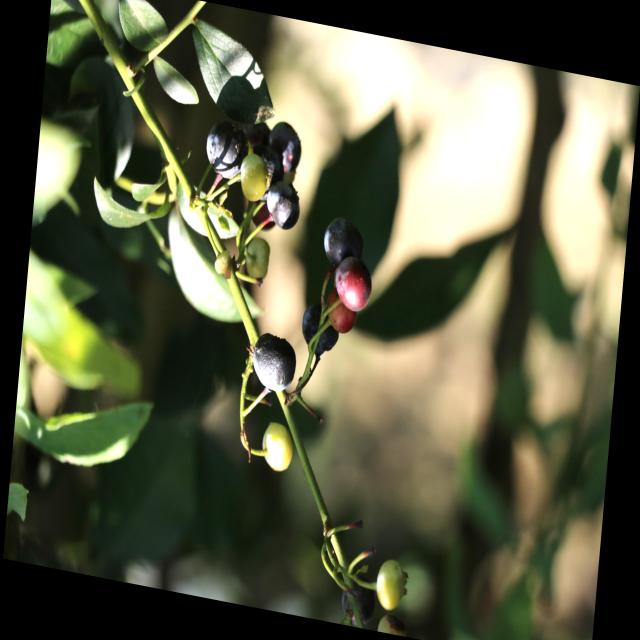blueberry: (201, 118, 250, 184), (251, 332, 301, 394), (296, 299, 342, 361), (250, 142, 289, 206), (323, 212, 365, 270), (266, 118, 304, 179), (267, 183, 310, 229), (242, 114, 277, 163)
blueberry-halfripe: (333, 255, 375, 316), (324, 293, 358, 336)
blueberry-unripe: (258, 416, 298, 477), (372, 555, 412, 615), (238, 155, 269, 203), (245, 233, 272, 279)
